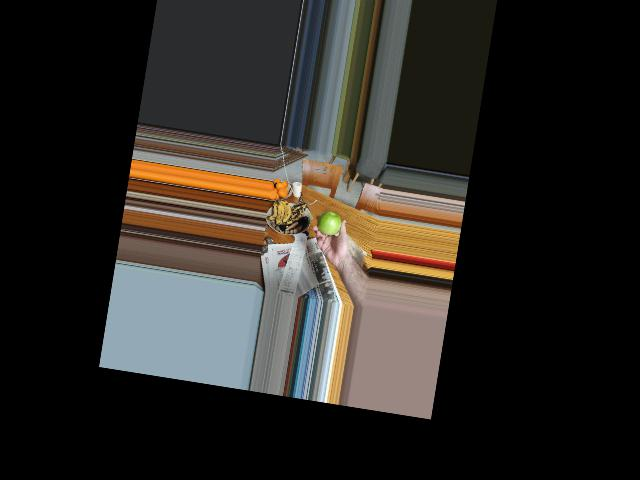apple: (315, 209, 343, 238)
